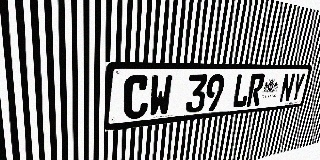3: (185, 75, 208, 113)
9: (204, 74, 226, 111)
C: (123, 75, 150, 120)
L: (231, 74, 251, 108)
N: (278, 73, 296, 103)
R: (246, 74, 265, 107)
W: (148, 75, 173, 117)
Y: (289, 73, 306, 102)
